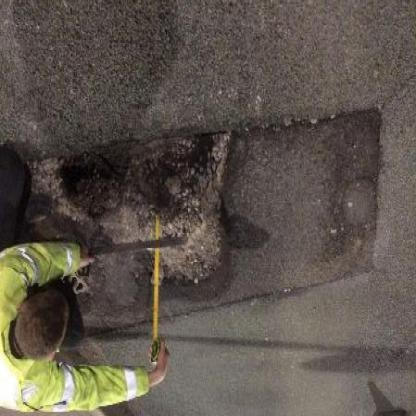pothole: (139, 127, 239, 306)
